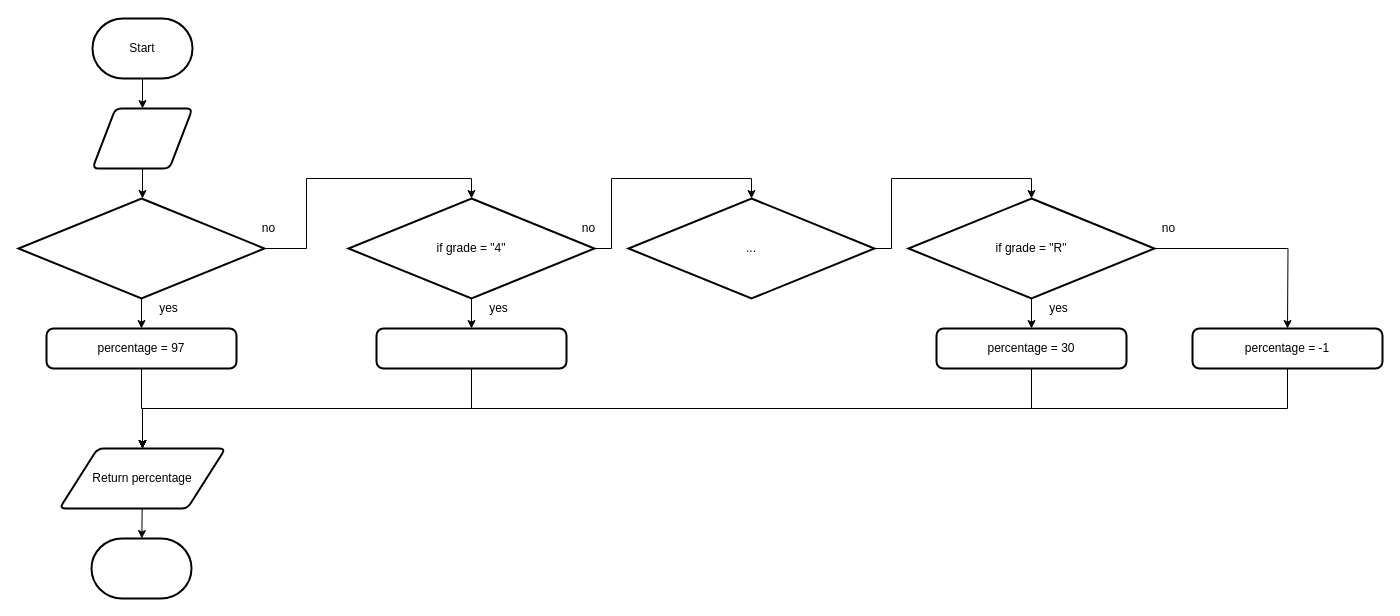
The diagram is 1400 pixels wide and 616 high, and some of its shapes have lost their labels. The centre of each missing label's shape, as x and y in pixels:
Get grade: pixel 142 138
if grade = "4+": pixel 141 248
percentage = 92: pixel 471 348
Stop: pixel 141 568
